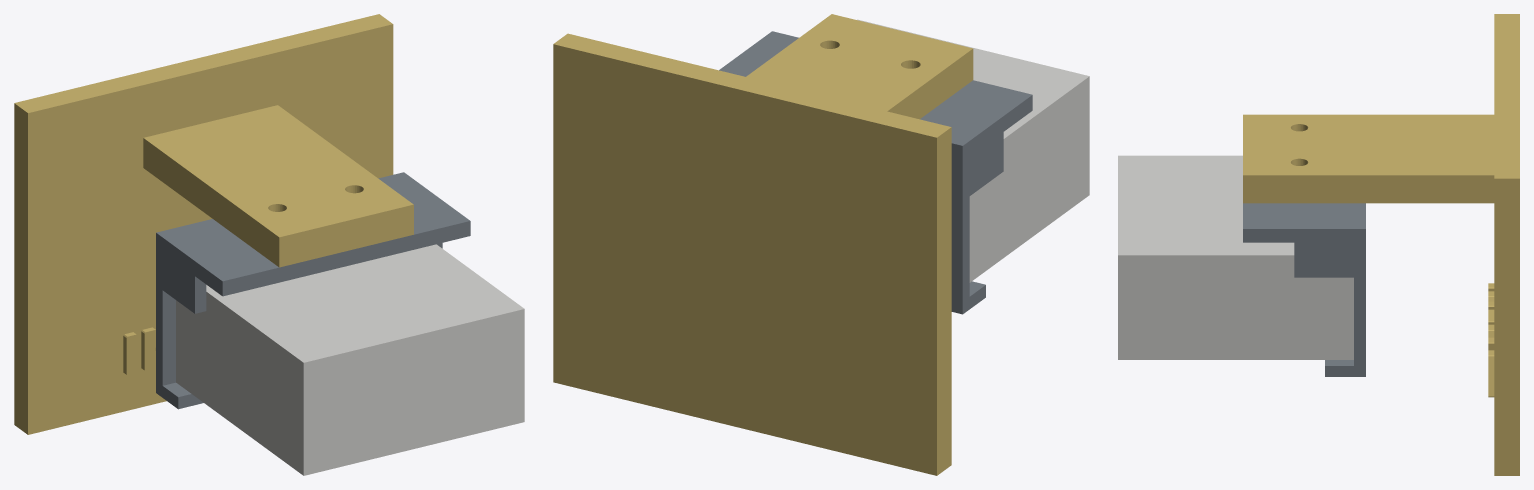
Rendered from montagem-ESTUDO.glb.
The picture shows the model from 3 angles, left to right: view 1: azimuth 30°, elevation 25°; view 2: azimuth 150°, elevation 25°; view 3: azimuth 270°, elevation 25°; orthographic projection. The views are drawn at different scales.
Parts seen in each view (by area): view 1: base, modulo, berco; view 2: base, modulo, berco; view 3: modulo, base, berco.
Part boxes in pixels (x1,y1,x2,y2): base: (14, 14, 413, 434); modulo: (176, 244, 524, 475); berco: (156, 172, 470, 409); base: (553, 14, 973, 475); modulo: (857, 19, 1089, 282); berco: (719, 31, 1032, 314); modulo: (1118, 155, 1353, 359); base: (1243, 14, 1519, 475); berco: (1243, 203, 1365, 376).
Size of the model in its own units: 76 by 64 by 78.4.
